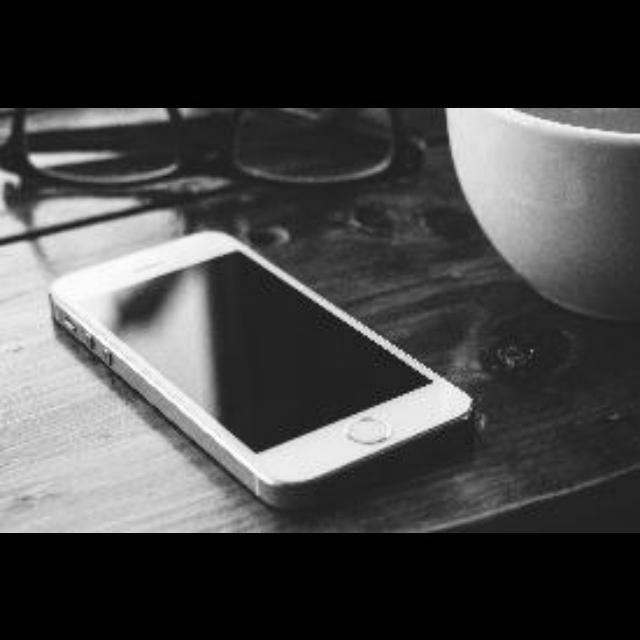fake: (28, 214, 512, 516)
